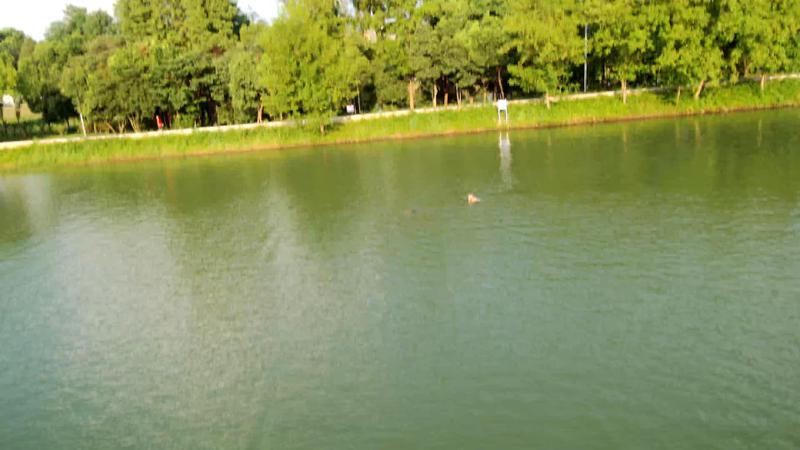passerby: (153, 111, 167, 132)
swimmers: (465, 188, 484, 206)
